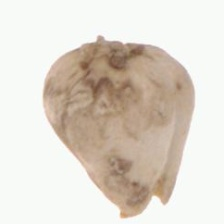L1: (119, 184, 172, 218), (68, 36, 144, 59)
L2: (43, 36, 196, 218)
